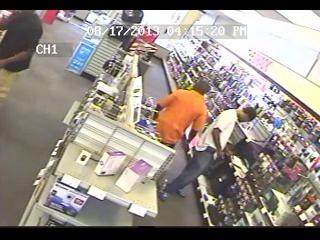Normal: (158, 104, 257, 201), (153, 80, 212, 179), (1, 11, 44, 107)
